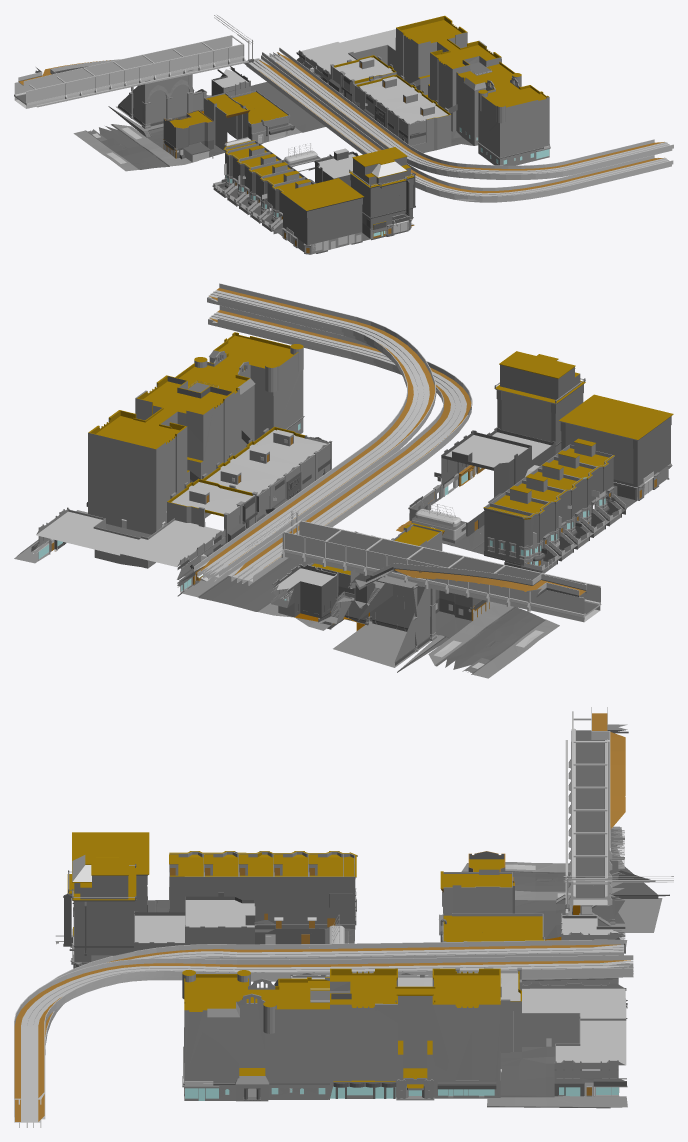
File: brook_s_18.FBX
3 renders of one model, top to bottom at view 1: azimuth 30°, elevation 25°; view 2: azimuth 150°, elevation 25°; view 3: azimuth 270°, elevation 25°, orthographic. The views are drawn at different scales.
Parts seen in each view (by area): view 1: unnamed, null; view 2: unnamed, null; view 3: unnamed, null.
Part boxes in pixels (x1,y1,x2,y2): unnamed: (14,15,501,254); null: (329,61,673,231); unnamed: (14,354,673,678); null: (175,283,556,510); unnamed: (55,707,673,1108); null: (14,864,340,1127).
Bounding box in the file's own units: 218 × 36.58 × 180.
